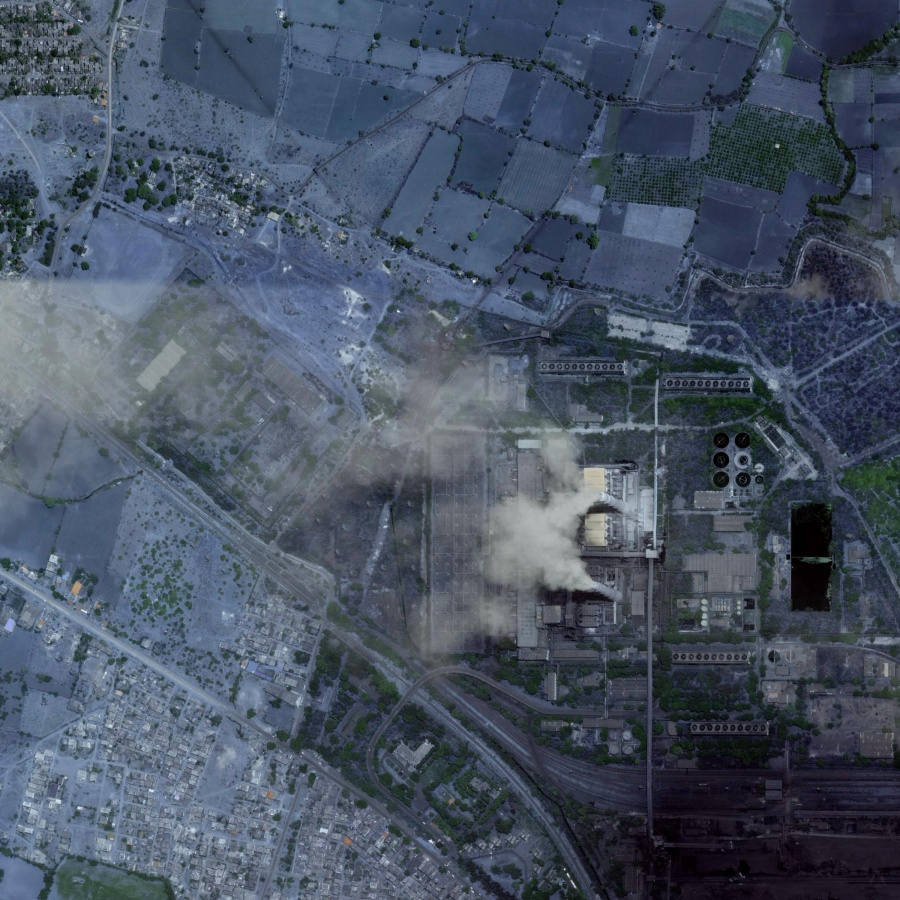PowerPlant: (433, 352, 705, 672)
